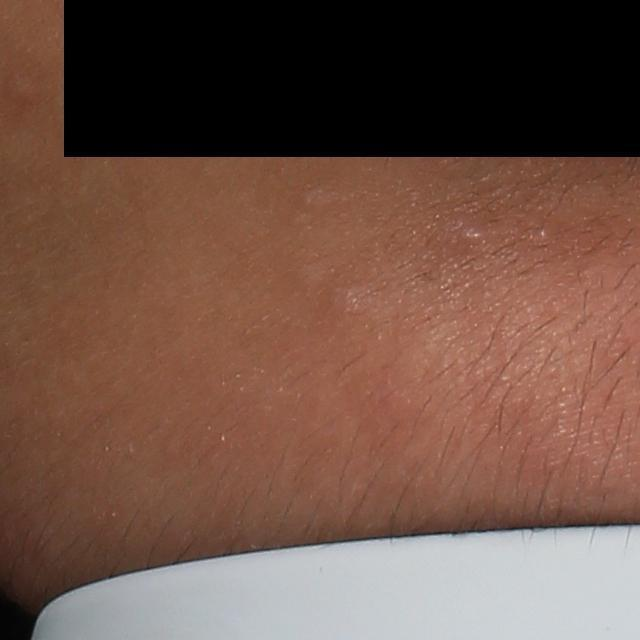comedo: (457, 225, 488, 245)
